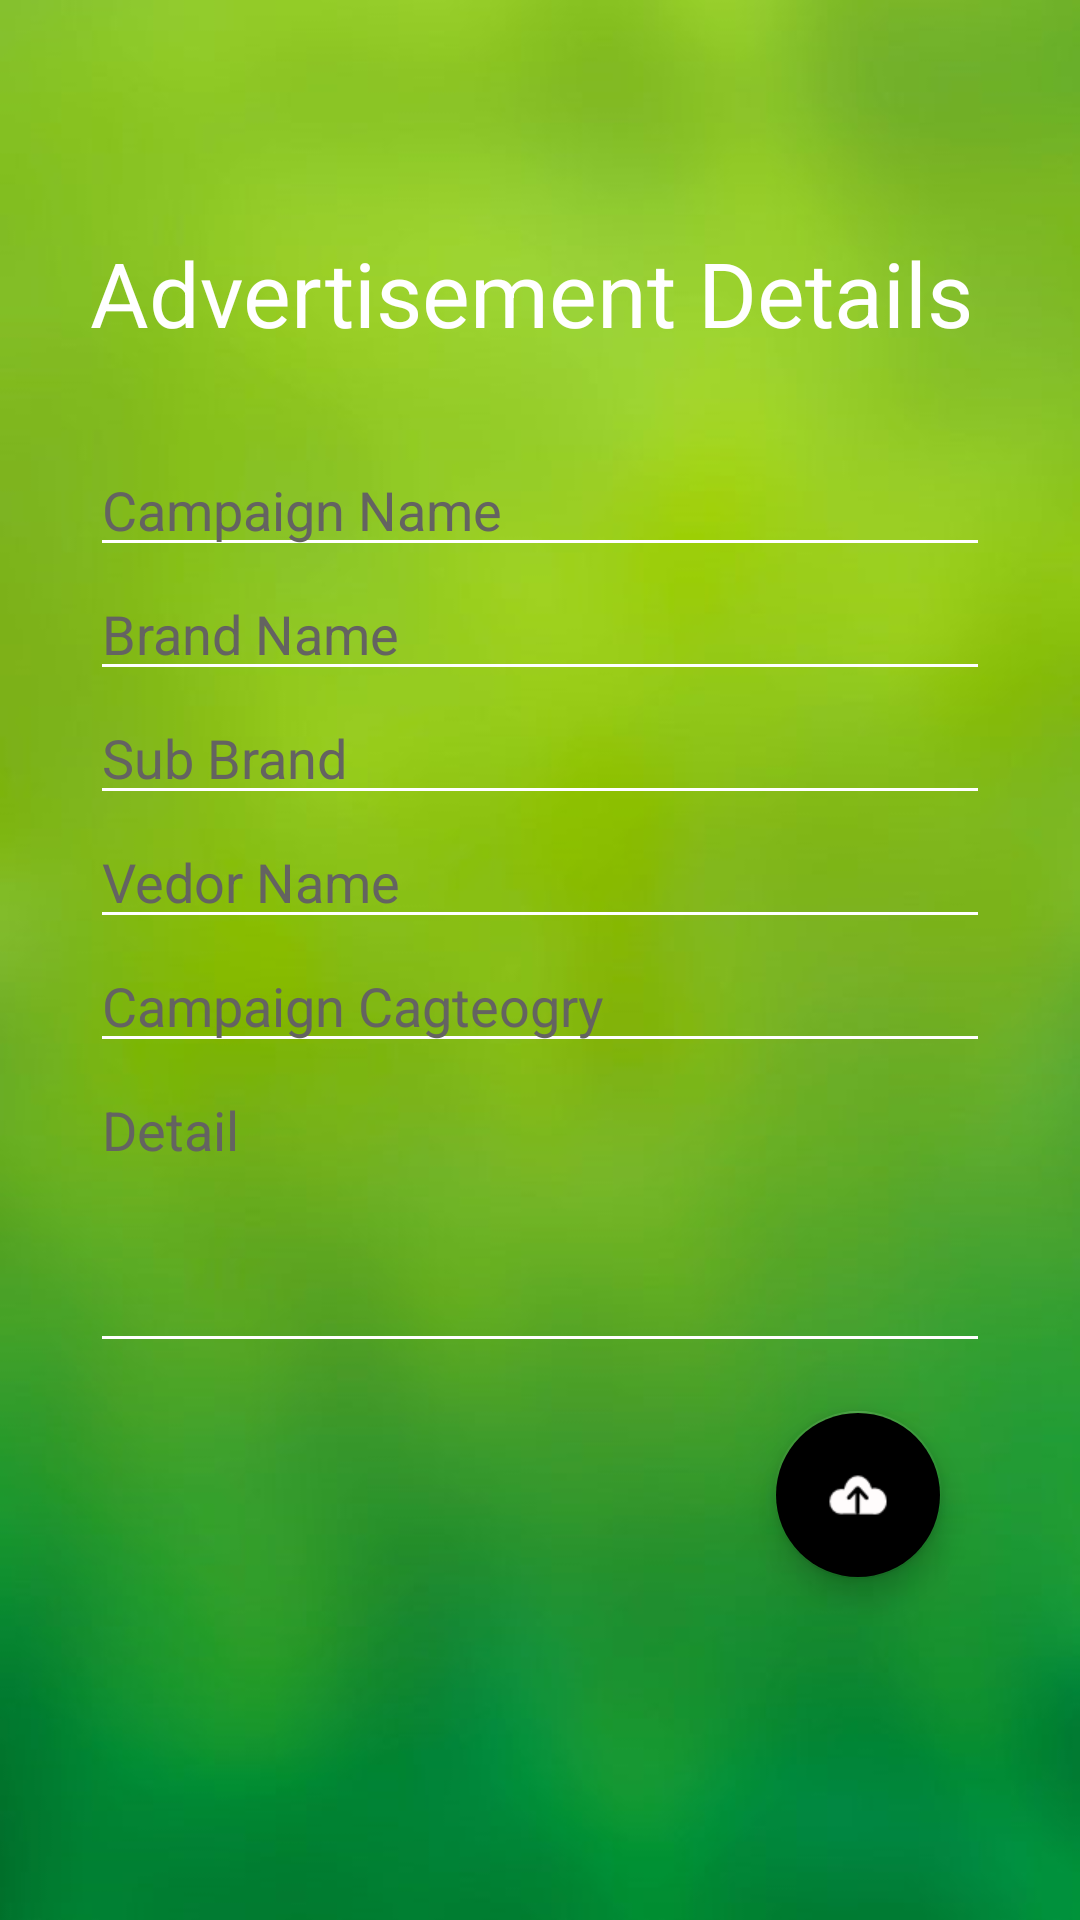

Icon click points for this 1080×1920 phone screenshot, format point (x, y):
cloudbig: point (857, 1495)
